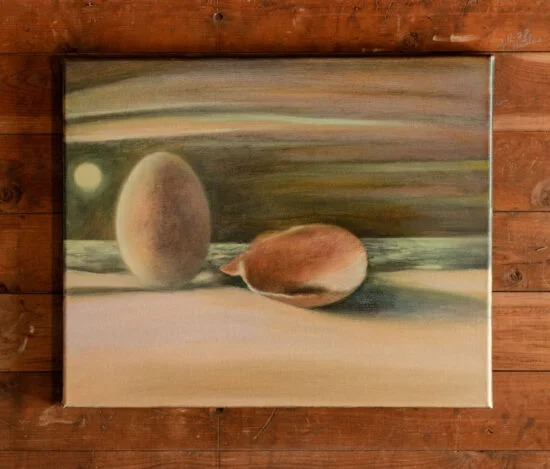painting: (62, 55, 493, 409)
